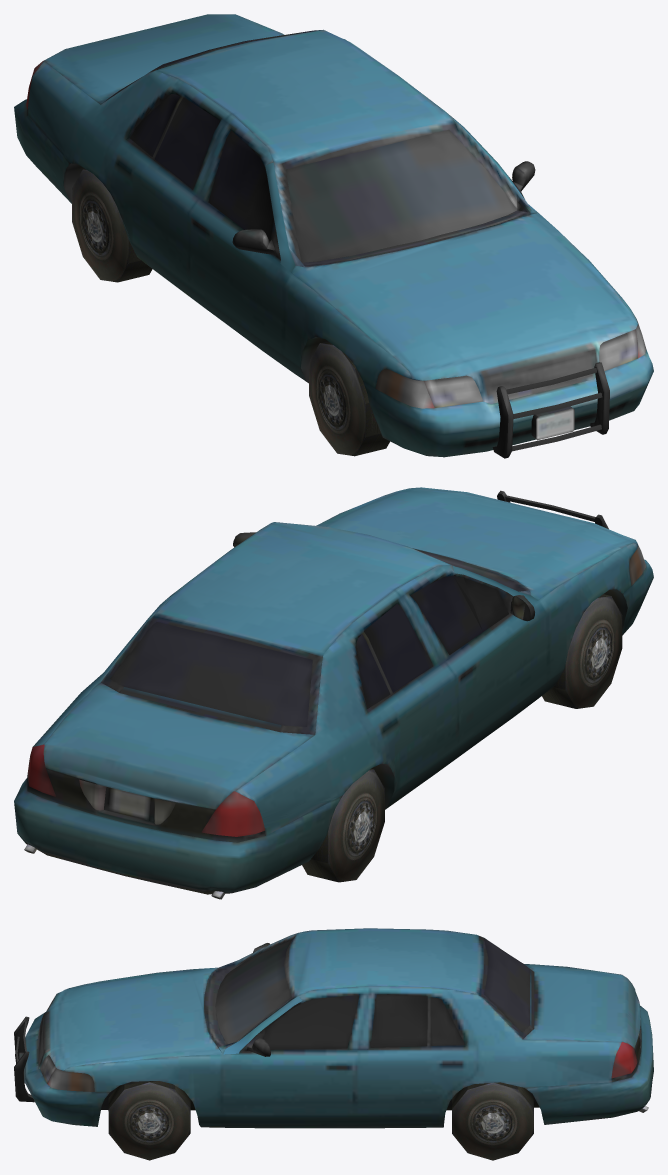
Rendered from car 3.FBX.
The picture shows the model from 3 angles, top to bottom: view 1: azimuth 30°, elevation 25°; view 2: azimuth 150°, elevation 25°; view 3: azimuth 270°, elevation 25°; orthographic projection. The views are drawn at different scales.
Visible parts, largest first — view 1: Car_06__13_, Wheels_FR__2__176, Wheels_FR__1__176; view 2: Car_06__13_, Wheels_FR__1__176, Wheels_FR__2__176; view 3: Car_06__13_, Wheels_FR__2__176, Wheels_FR__1__176.
Boxes of the visible parts, x1,y1,x2,y2 form: Car_06__13_: (14,14,653,458); Wheels_FR__2__176: (309,341,389,456); Wheels_FR__1__176: (72,169,152,282); Car_06__13_: (14,487,653,899); Wheels_FR__1__176: (302,768,384,882); Wheels_FR__2__176: (542,594,622,708); Car_06__13_: (14,928,653,1128); Wheels_FR__2__176: (108,1081,190,1160); Wheels_FR__1__176: (452,1082,533,1160).
Bounding box in the file's own units: 21.17 × 14.65 × 54.14.
2 materials, 2 textured.
